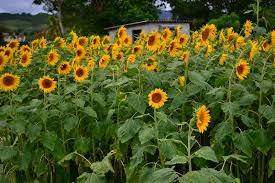girasol: (227, 58, 256, 88), (193, 105, 219, 136), (143, 88, 172, 108), (38, 75, 65, 96), (139, 32, 167, 50), (73, 65, 94, 81)
